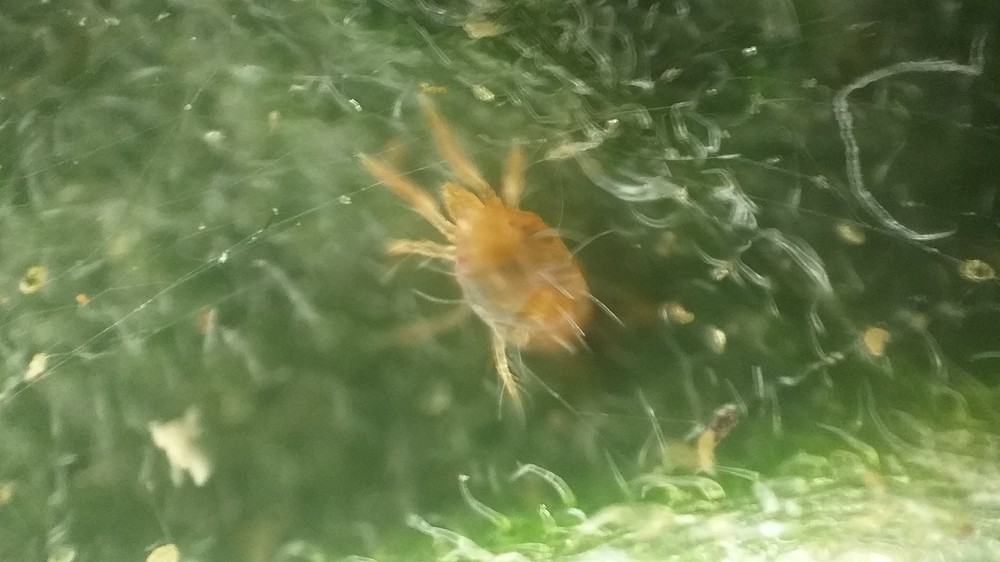Aracnido Rojo: (329, 88, 681, 429)
